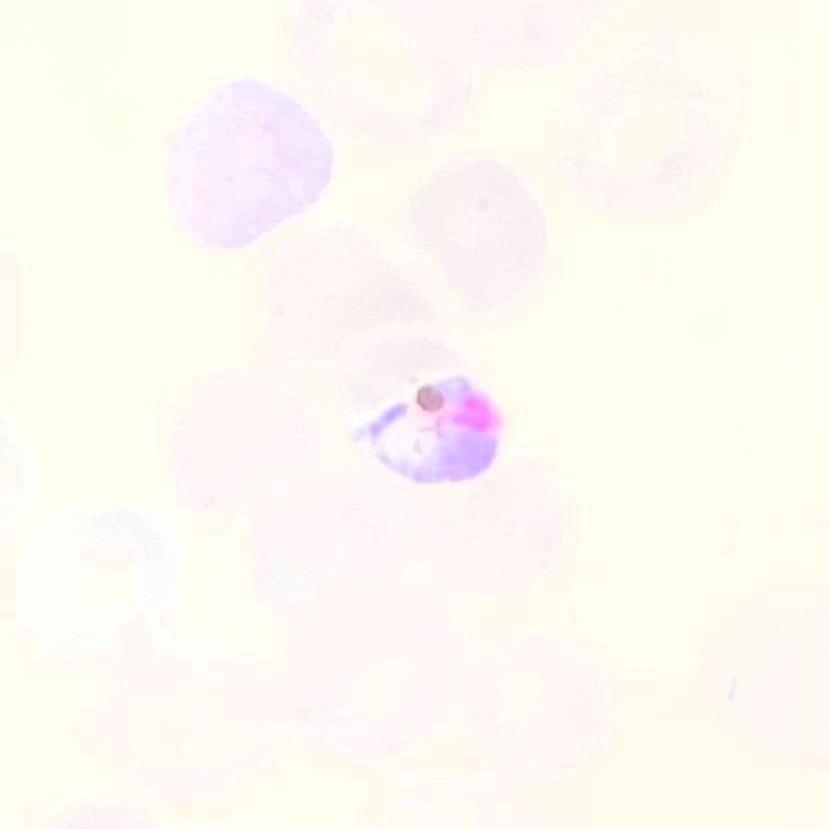Infected: (365, 374, 509, 494)
